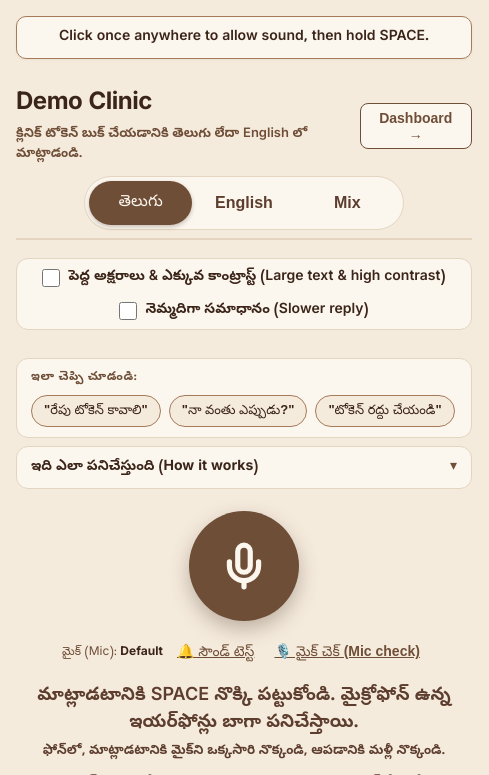
Test: Patient App Component Tests (Vitest + RTL) › 11. First-time visitor experience: tagline, empty token state, how-it-works, mic hint, and first-visit banner
This screenshot has width=489, height=775.
Check: the text "Click once anywhere to allow sound, then hold SPACE." is shown, box [16,16,472,59]
Check: the text "క్లినిక్ టోకెన్ బుక్ చేయడానికి తెలుగు లేదా English లో మాట్లాడండి." is shown, box [16,126,308,162]
Click the button "English" at (244, 203), box [192,181,296,225]
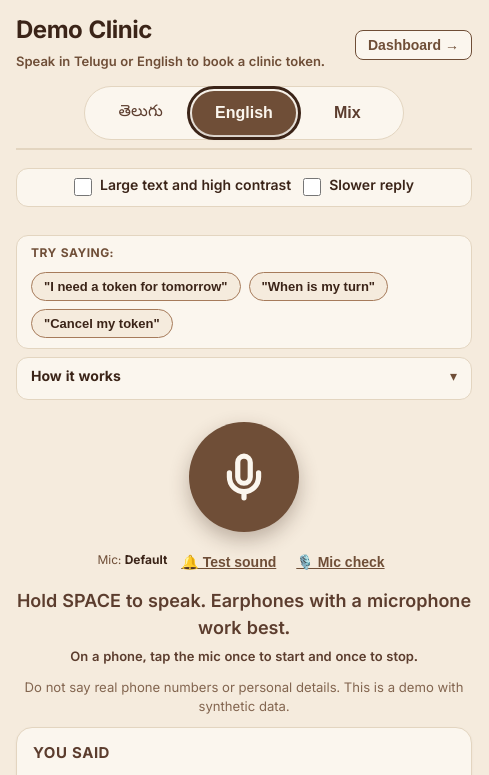
Check: the text "Click once anywhere to allow sound, then hold SPACE." is gone
Check: the text "Speak in Telugu or English to book a clinic token." is shown, box [16,54,325,74]
Check: the text "Hold SPACE to speak. Earphones with a microphone work best." is shown, box [16,590,472,644]
